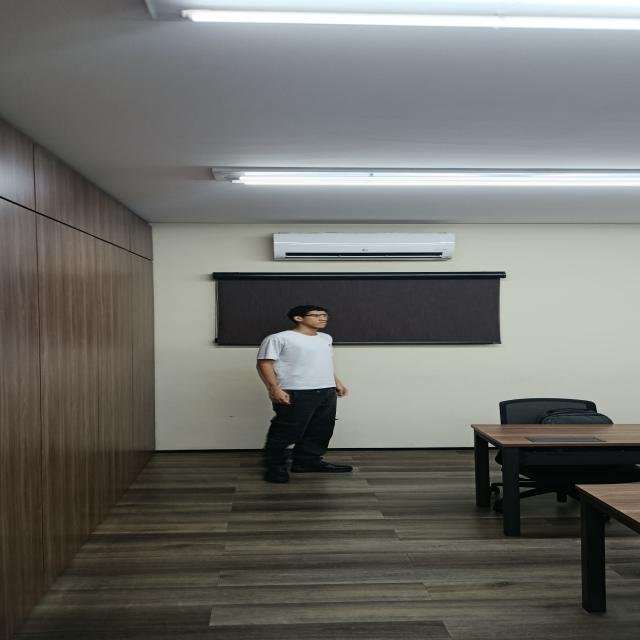sem_oculos: (299, 315, 329, 319)
